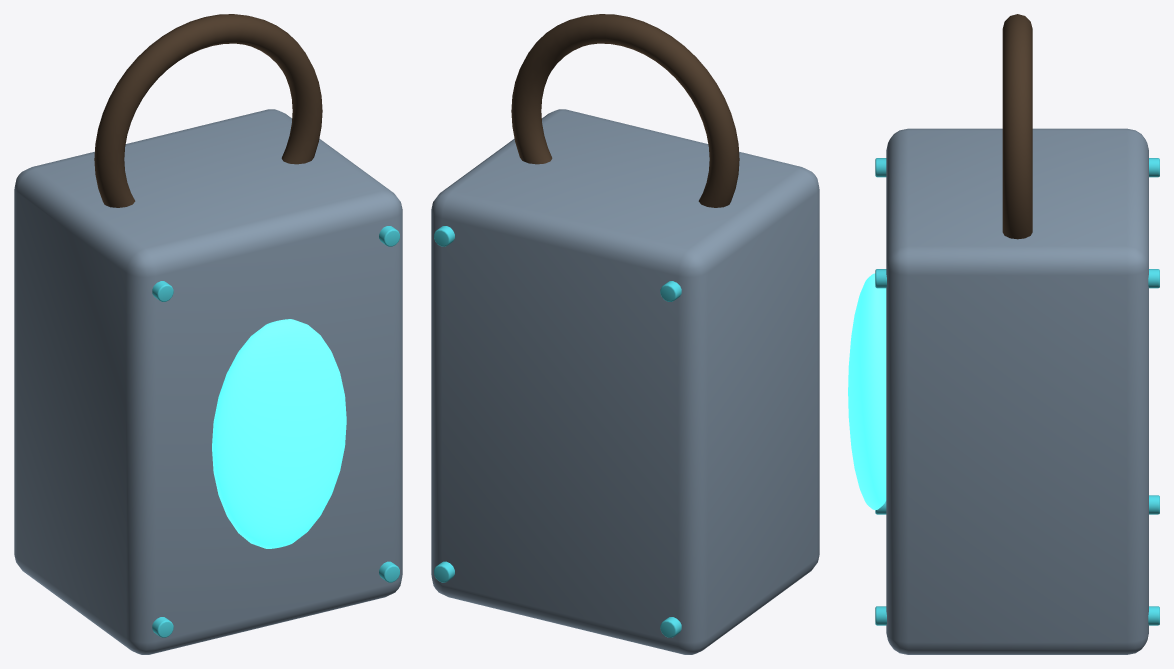
The model's file is trinket_v2.glb.
3 renders of one model, left to right at view 1: azimuth 30°, elevation 25°; view 2: azimuth 150°, elevation 25°; view 3: azimuth 270°, elevation 25°, orthographic.
Parts seen in each view (by area): view 1: LANTERN_FRAME_PRIMARY, LANTERN_FLAME_EMISSIVE, LANTERN_HANDLE_SECONDARY; view 2: LANTERN_FRAME_PRIMARY, LANTERN_HANDLE_SECONDARY; view 3: LANTERN_FRAME_PRIMARY, LANTERN_FLAME_EMISSIVE, LANTERN_HANDLE_SECONDARY, LANTERN_RAIL_ACCENT.002, LANTERN_RAIL_ACCENT.003, LANTERN_RAIL_ACCENT.001.
Boxes of the visible parts, box(x1,y1,x2,y2) form: LANTERN_FRAME_PRIMARY: box(14, 109, 402, 654); LANTERN_FLAME_EMISSIVE: box(212, 319, 346, 548); LANTERN_HANDLE_SECONDARY: box(94, 14, 322, 207); LANTERN_FRAME_PRIMARY: box(431, 109, 819, 654); LANTERN_HANDLE_SECONDARY: box(511, 14, 739, 207); LANTERN_FRAME_PRIMARY: box(886, 128, 1148, 654); LANTERN_FLAME_EMISSIVE: box(848, 273, 886, 510); LANTERN_HANDLE_SECONDARY: box(1002, 14, 1032, 239); LANTERN_RAIL_ACCENT.002: box(875, 606, 1159, 625); LANTERN_RAIL_ACCENT.003: box(875, 269, 1159, 288); LANTERN_RAIL_ACCENT.001: box(875, 158, 1159, 177).
Size of the model in its own units: 1.16 by 2.29 by 1.14.
